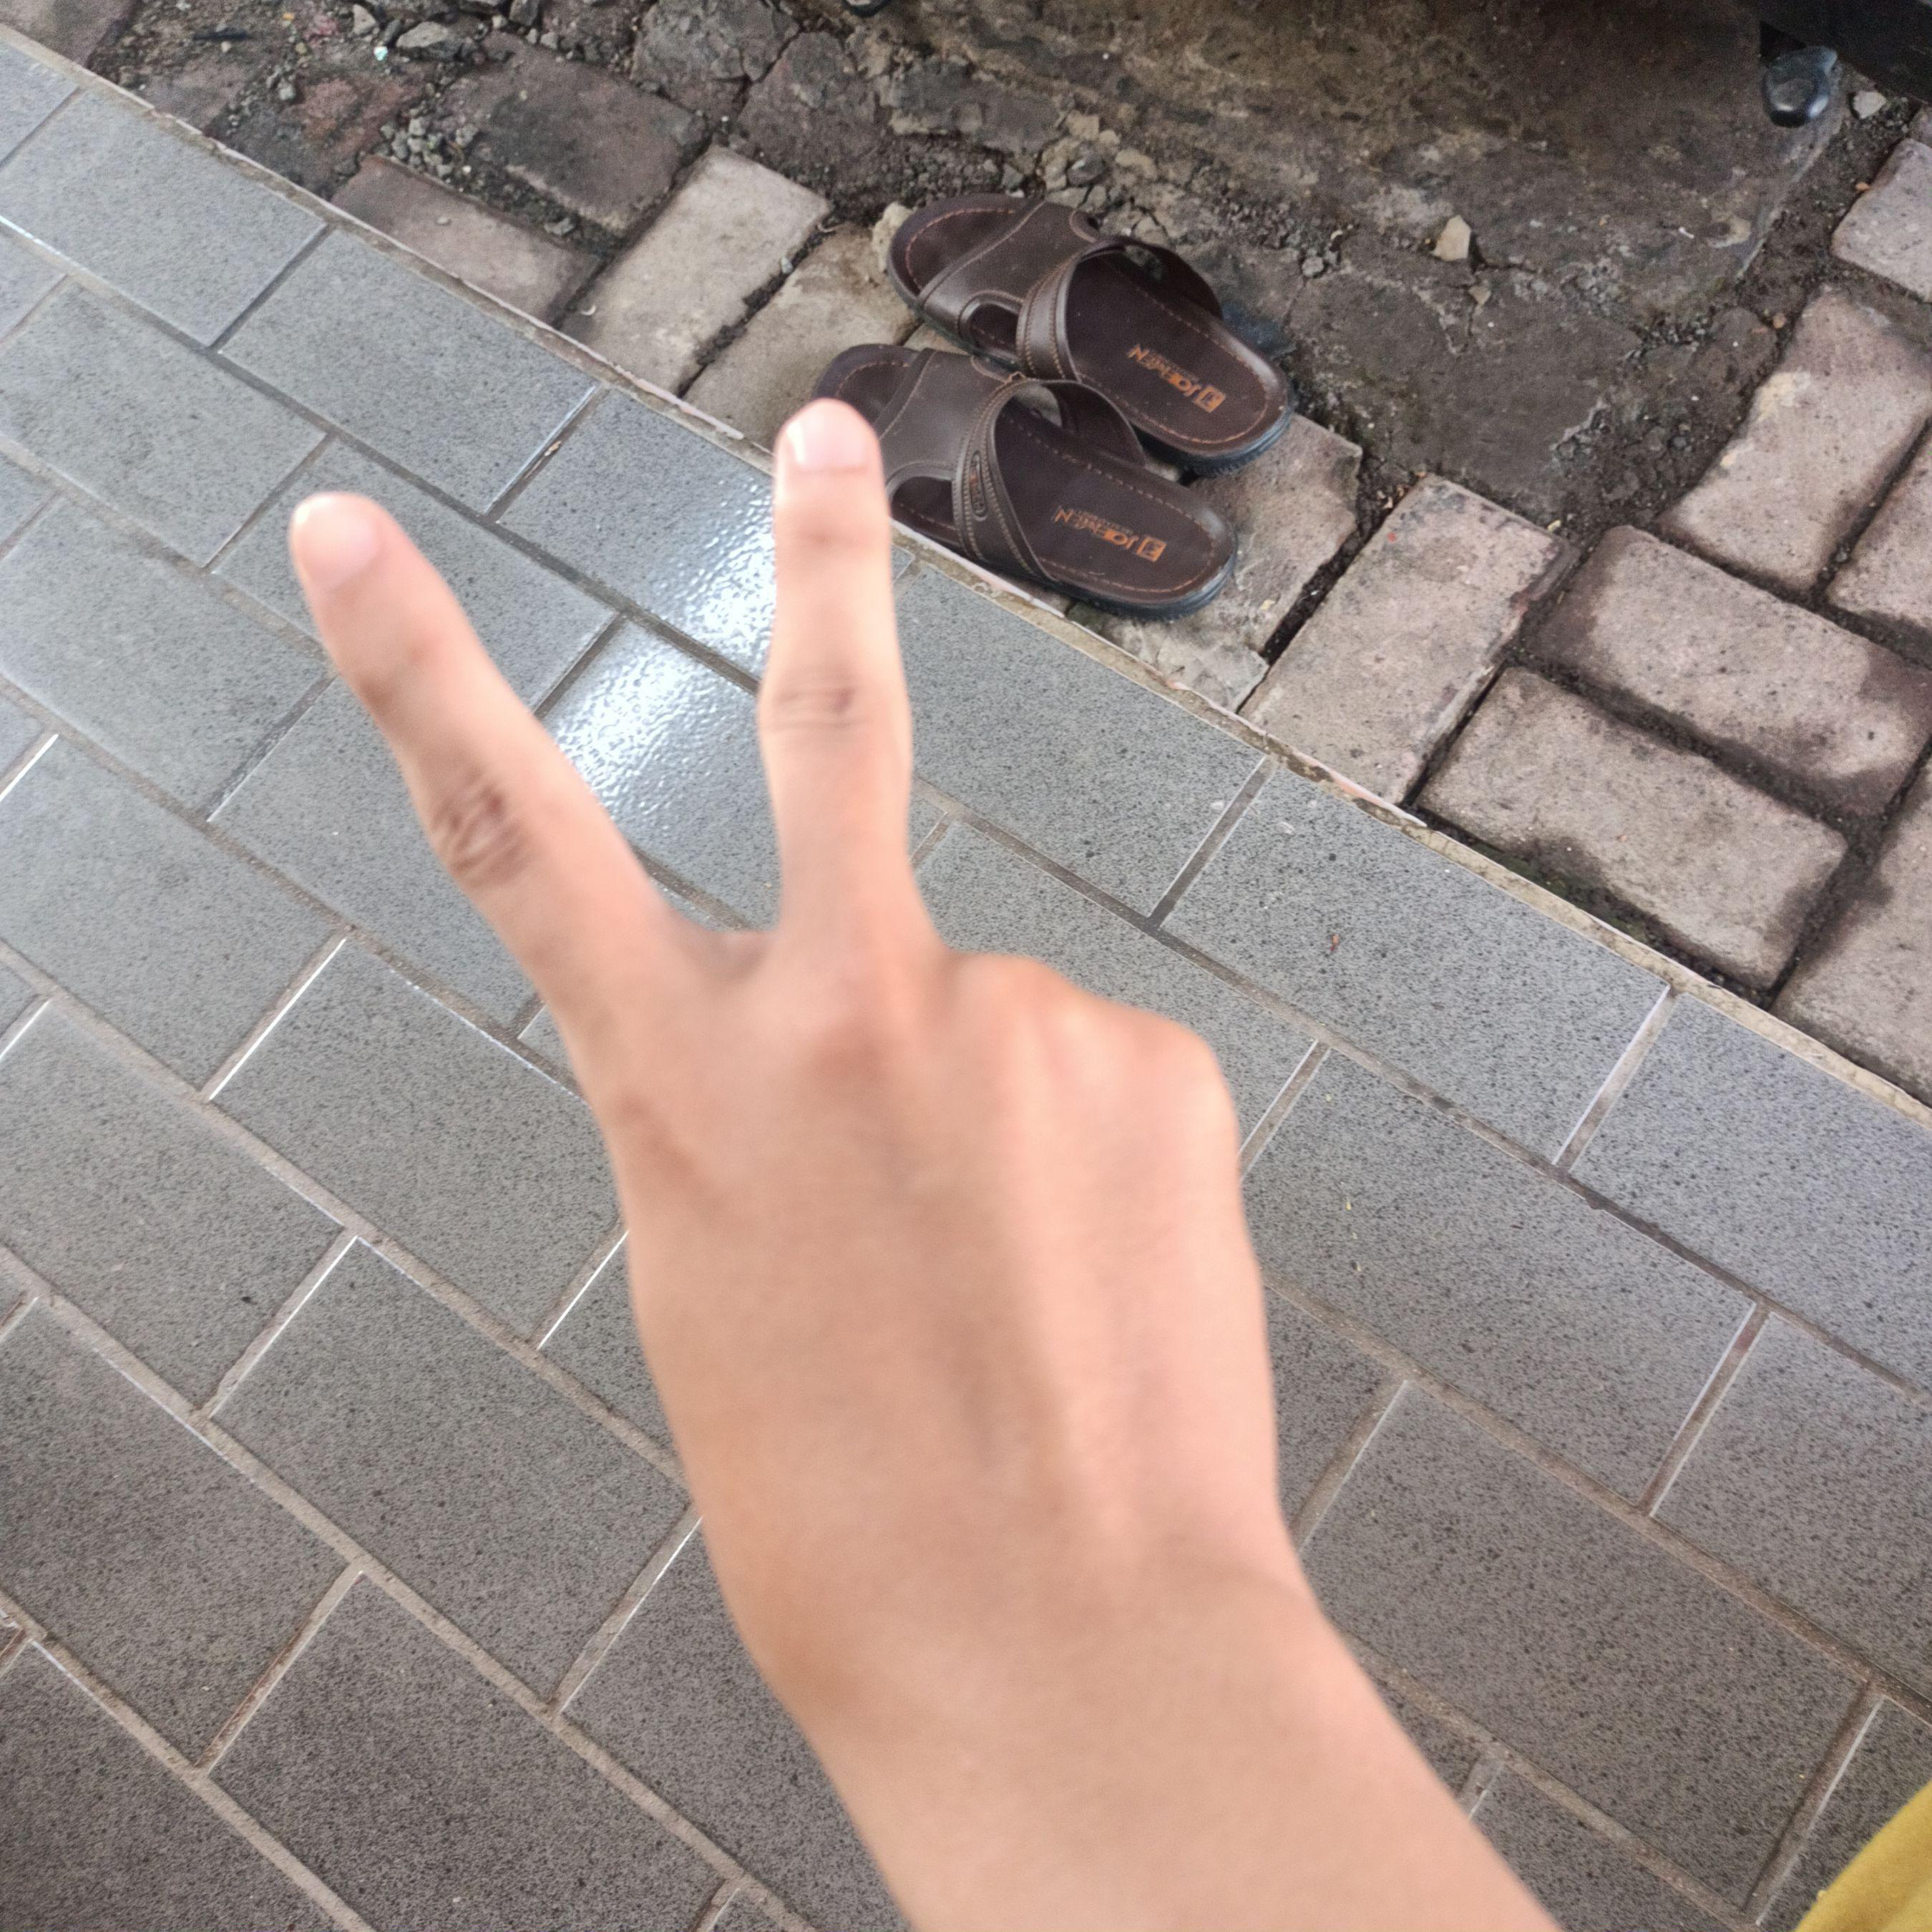scissors: (281, 384, 1334, 1886)
